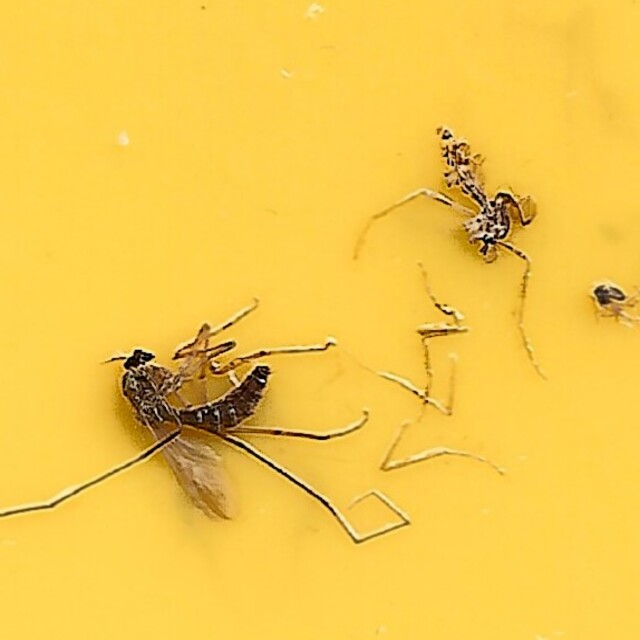Nematocera: (111, 326, 273, 523), (434, 117, 529, 264)
